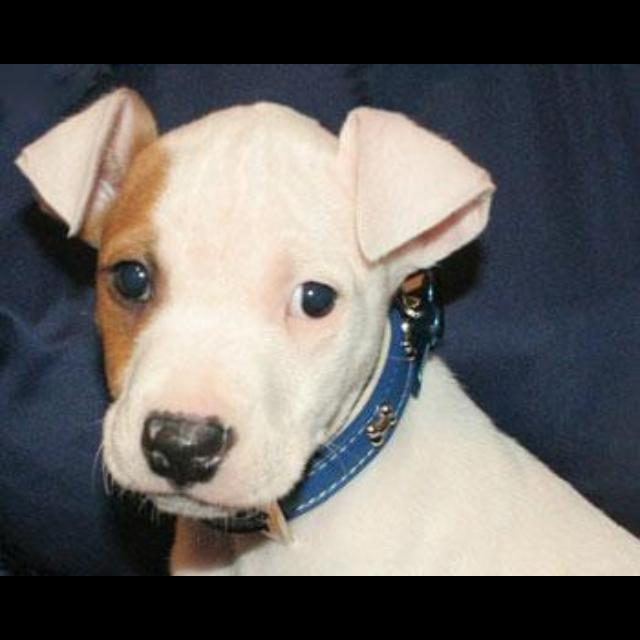staffford: (14, 85, 639, 575)
